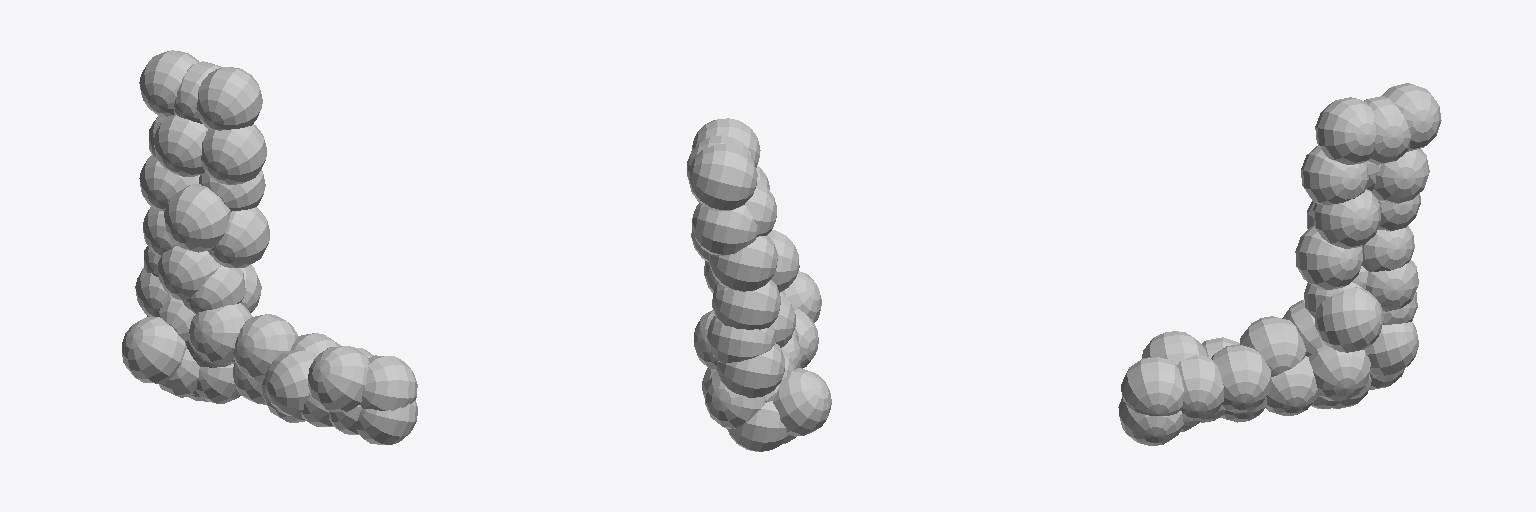
The model's file is model-triangulated.obj.
3 renders of one model, left to right at view 1: azimuth 30°, elevation 25°; view 2: azimuth 150°, elevation 25°; view 3: azimuth 270°, elevation 25°, orthographic.
Visible parts, largest first — view 1: group[number redacted]; view 2: group[number redacted]; view 3: group[number redacted].
Part boxes in pixels (bbox=[...]): group[number redacted]: bbox=[122, 50, 417, 444]; group[number redacted]: bbox=[687, 118, 831, 451]; group[number redacted]: bbox=[1118, 83, 1441, 445].
Bounding box in the file's own units: 0.0631 × 0.1016 × 0.0932.